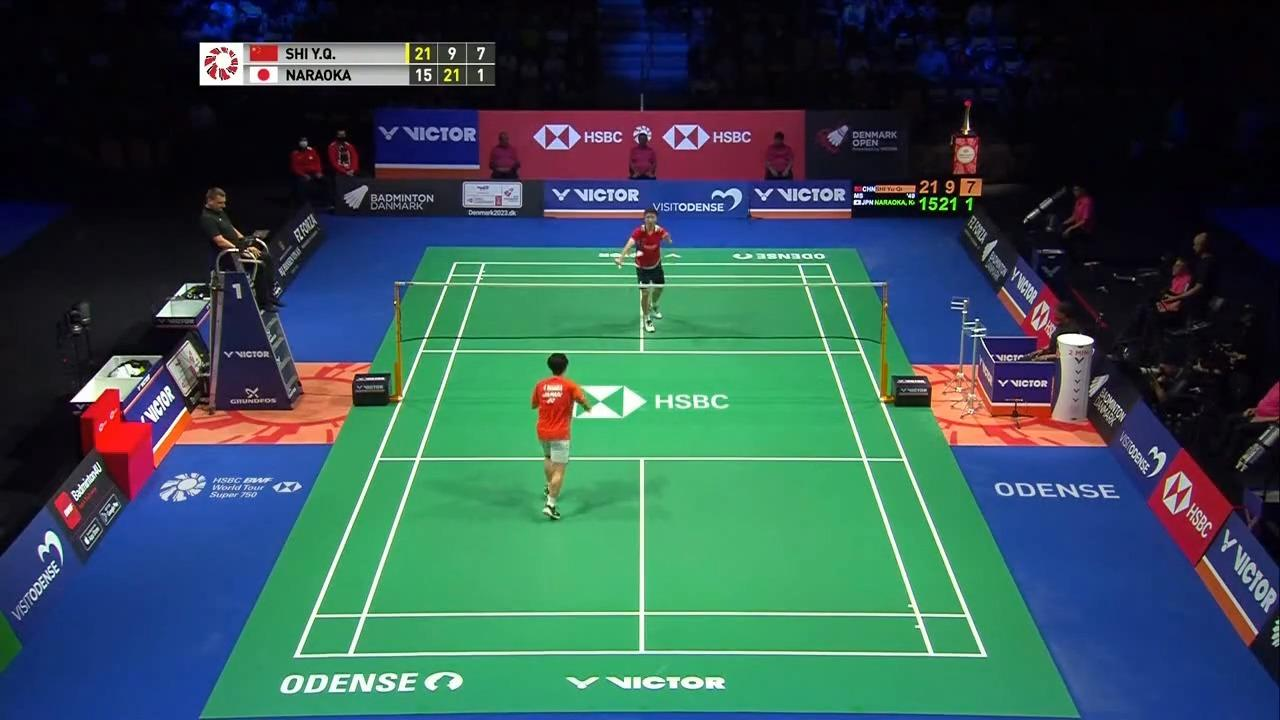shuttle: (636, 248, 646, 260)
